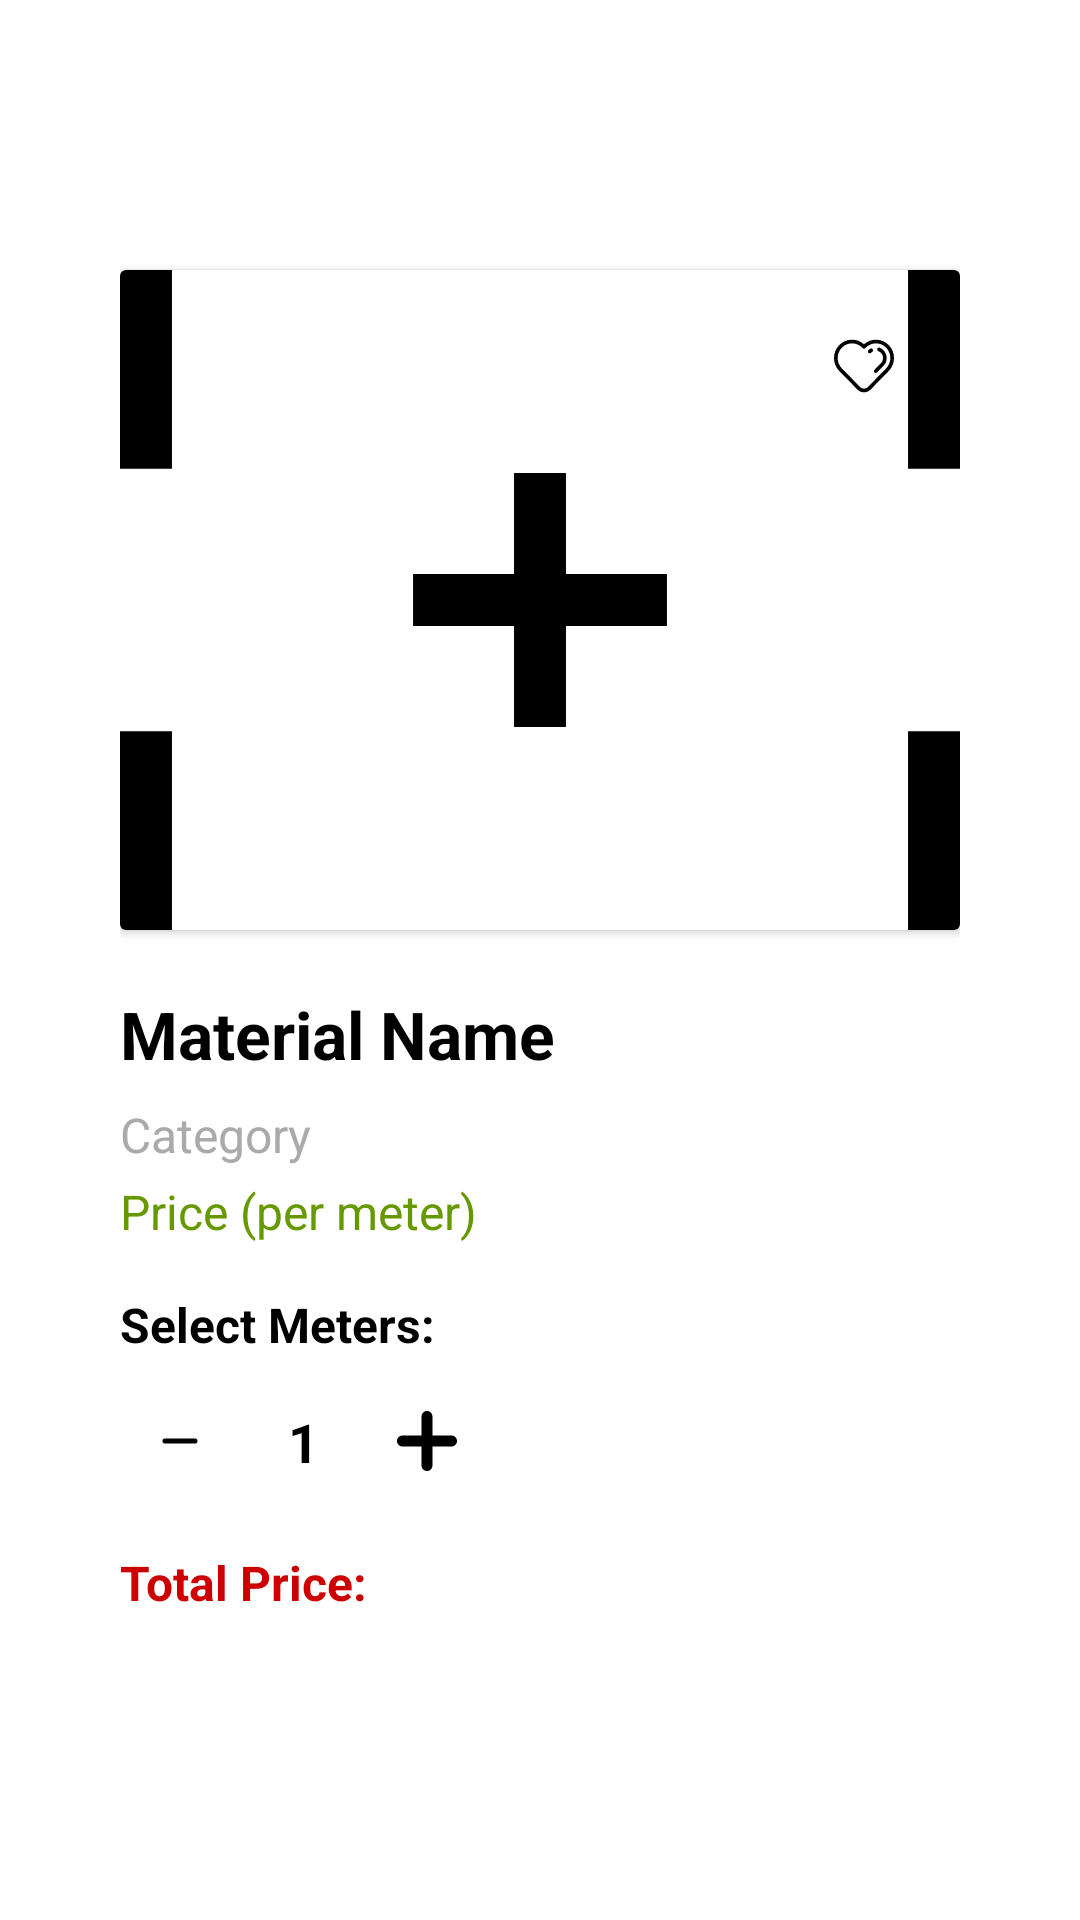

Screen size 1080w x 1920h. Icon name, then its box in pixels as (x1, y1, x2, y2):
Add Quantity: (397, 1411, 457, 1471)
Add to Wishlist: (834, 306, 924, 426)
Remove Quantity: (162, 1438, 198, 1444)
